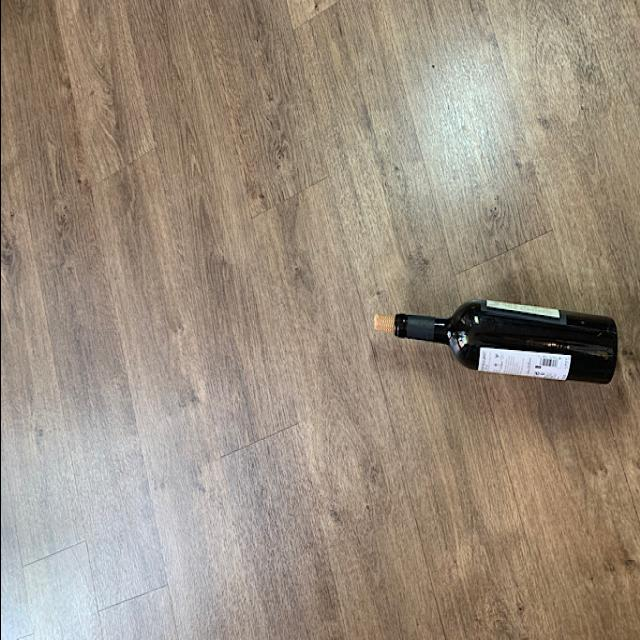Glass Bottle: (398, 298, 618, 394)
